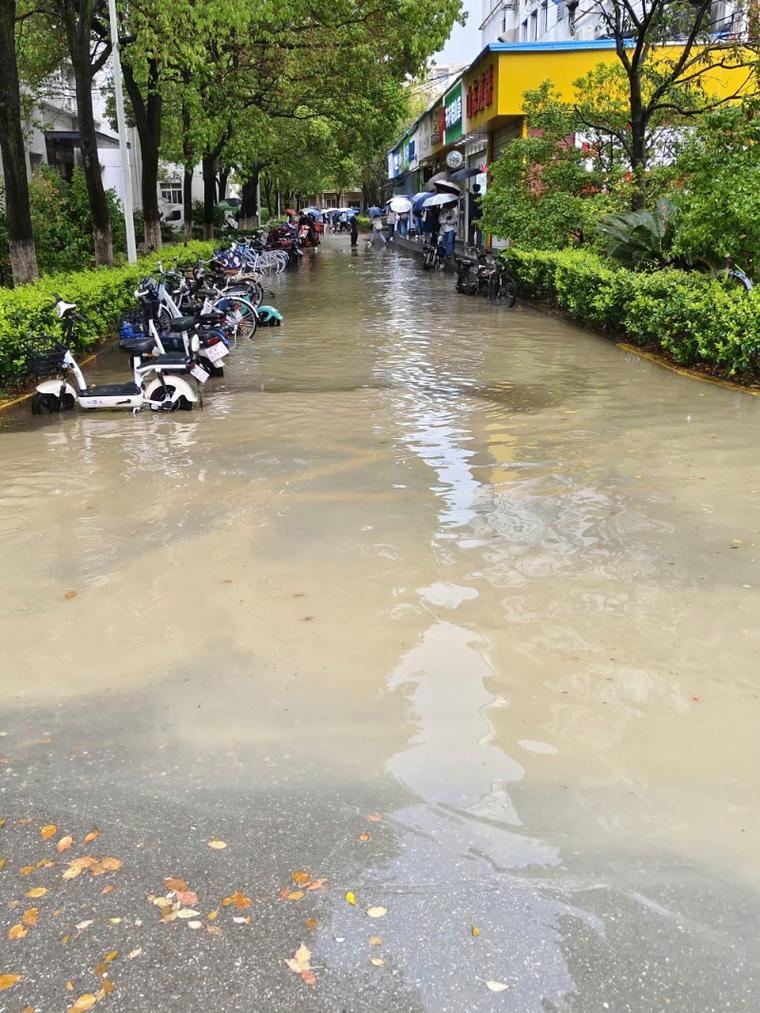puddle: (6, 413, 760, 881)
